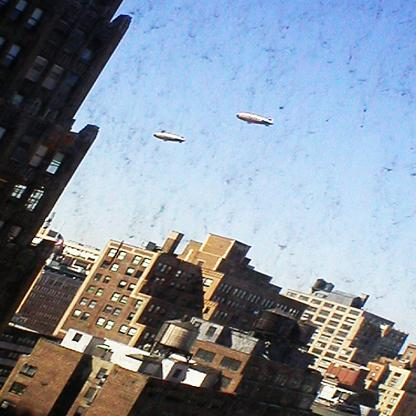Airship: (230, 109, 279, 135), (149, 129, 187, 148)
